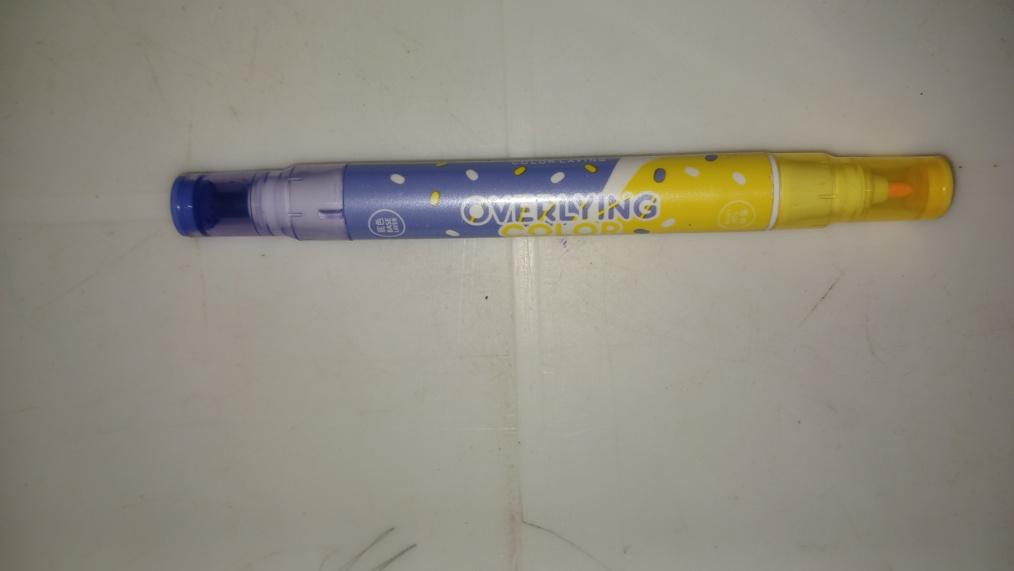Highlighter: (170, 151, 960, 242)
